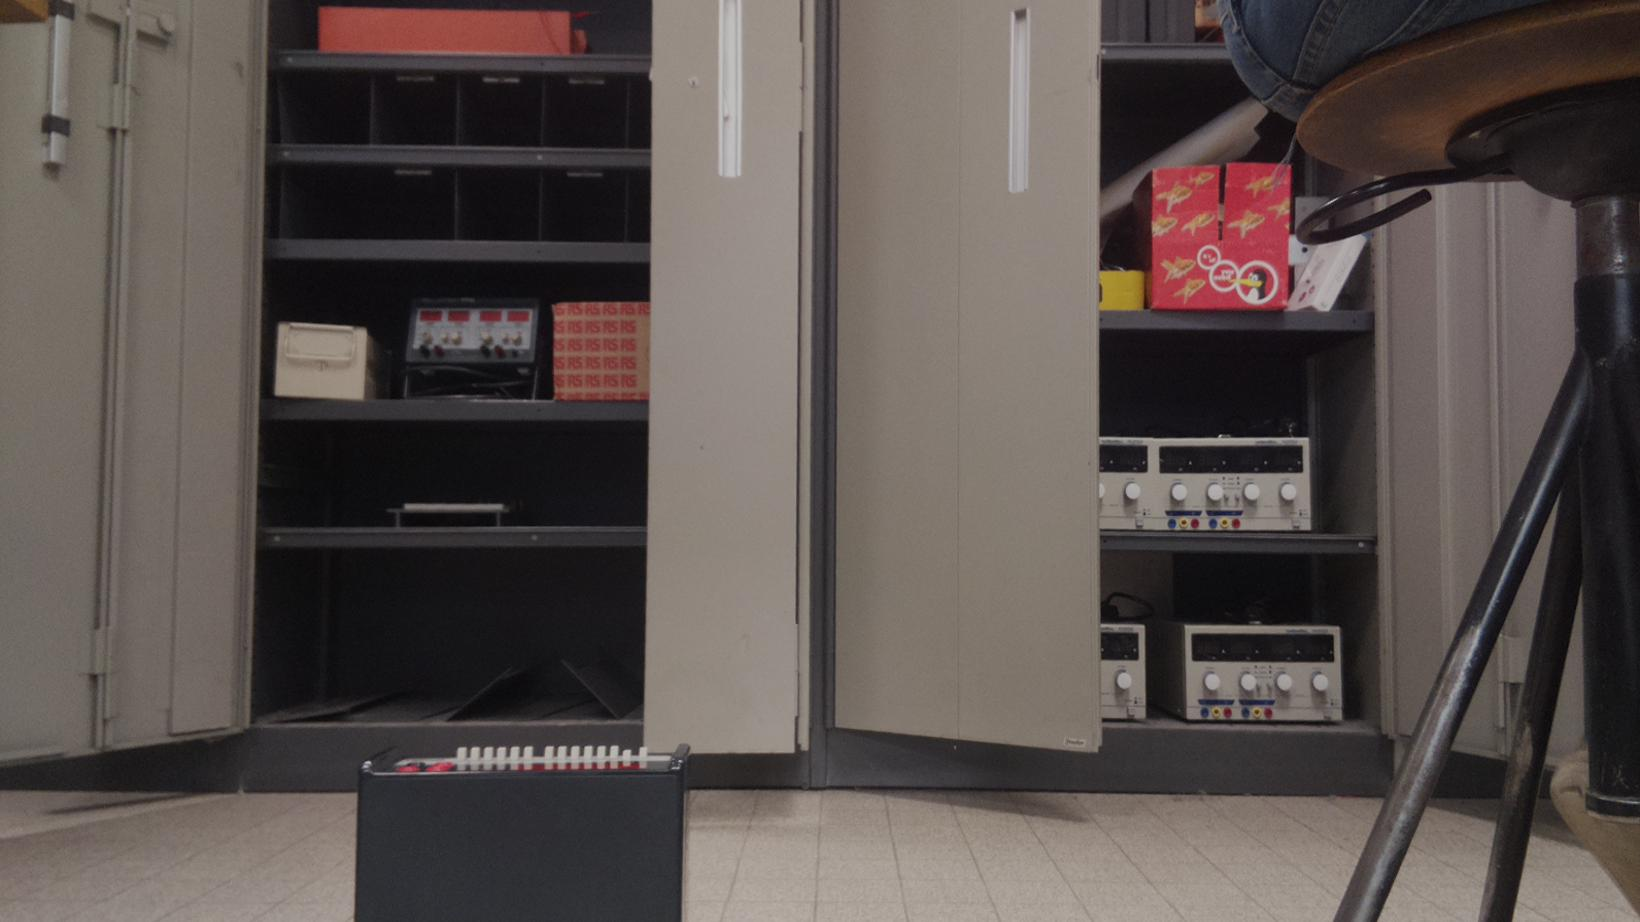medium: (341, 740, 699, 922)
